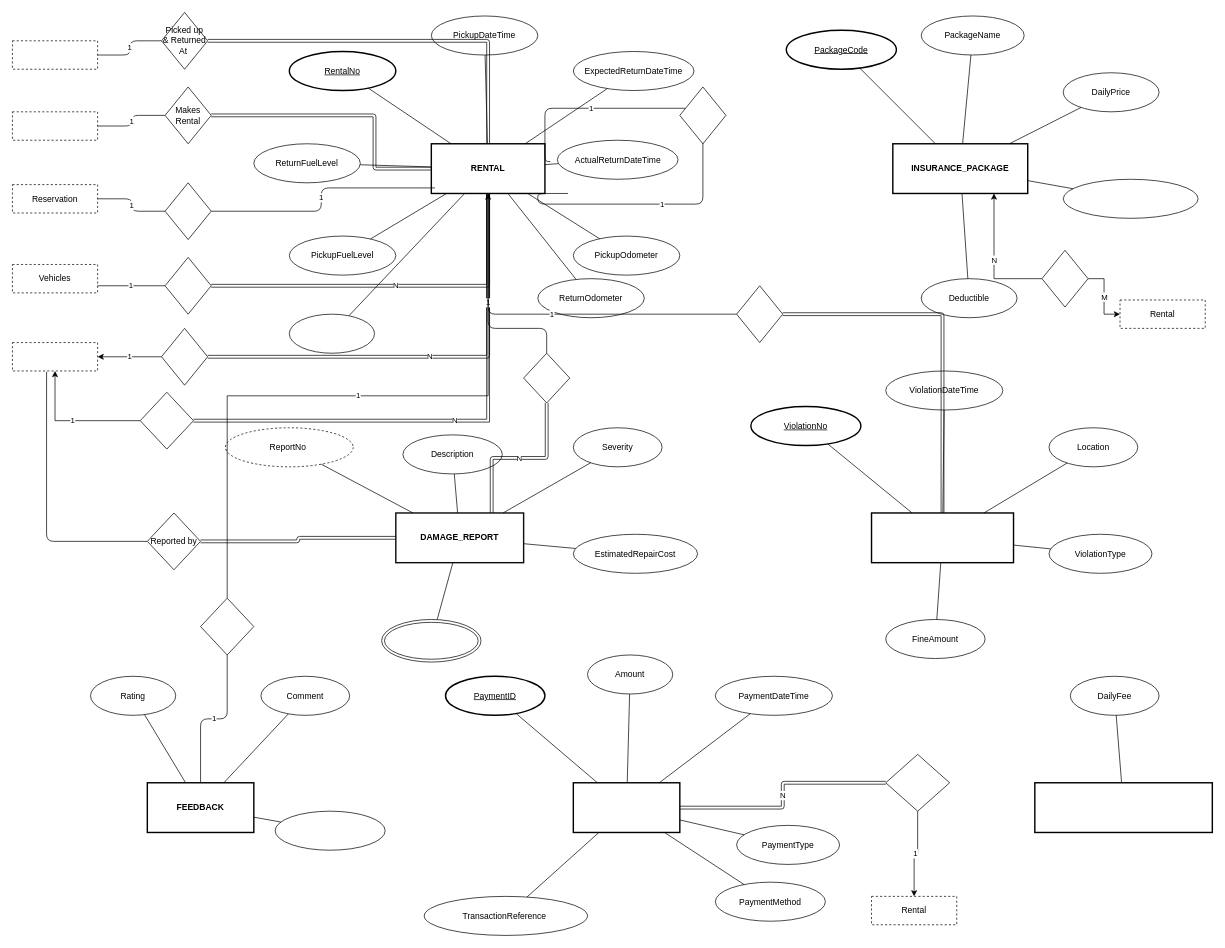
This 1225x948 diagram has some shape labels left out. The shapes that lost their labels are listed below. From the top down, each one's box as (x1, y1, x2, y2) in pixels, then its label:
(12, 40, 98, 69): Branch
(12, 111, 98, 140): Customer
(679, 86, 726, 144): Etended
(164, 182, 211, 240): Genrates
(1063, 179, 1198, 218): MaximumCoverageAmount
(164, 257, 211, 314): Uses_Vehickes
(1041, 250, 1088, 307): Include insurance
(289, 313, 375, 353): LateFee
(736, 285, 783, 343): Has Violatons
(12, 342, 98, 371): Employee
(161, 328, 208, 385): Handed over by
(523, 353, 570, 403): Has Damage
(140, 392, 193, 449): Received by
(870, 512, 1014, 563): TRAFFIC_VIOLATION
(200, 597, 254, 655): Received Feedback
(381, 619, 481, 662): Photos
(885, 754, 950, 811): Has Payment
(572, 782, 680, 833): PAYMENT
(1034, 782, 1213, 833): RENTAL_ADDITIONAL_DRIVER
(274, 810, 385, 850): SubmissionDate
